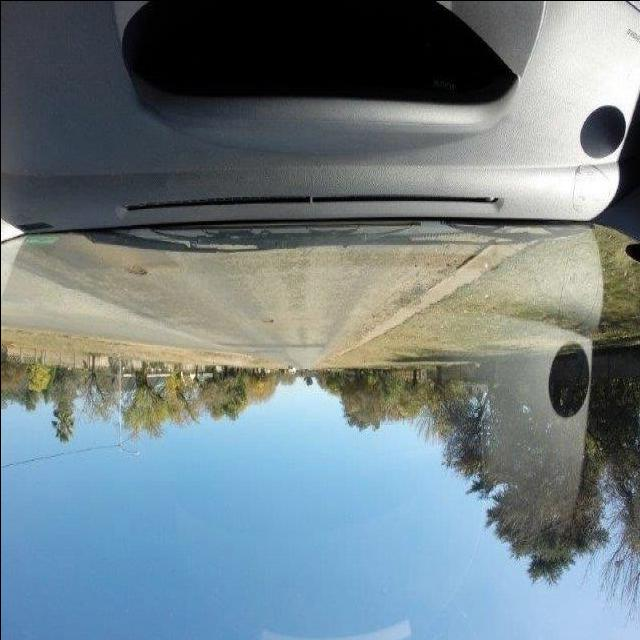lubang: (122, 260, 151, 278), (258, 312, 274, 328)
